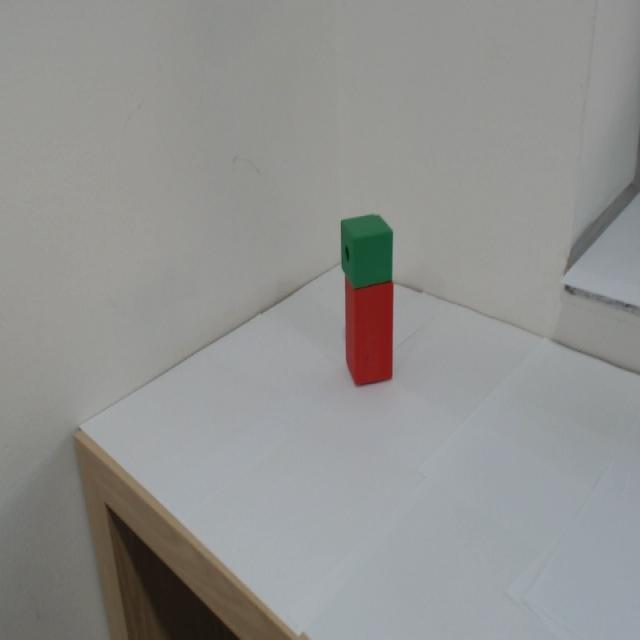cube: (333, 211, 404, 287)
